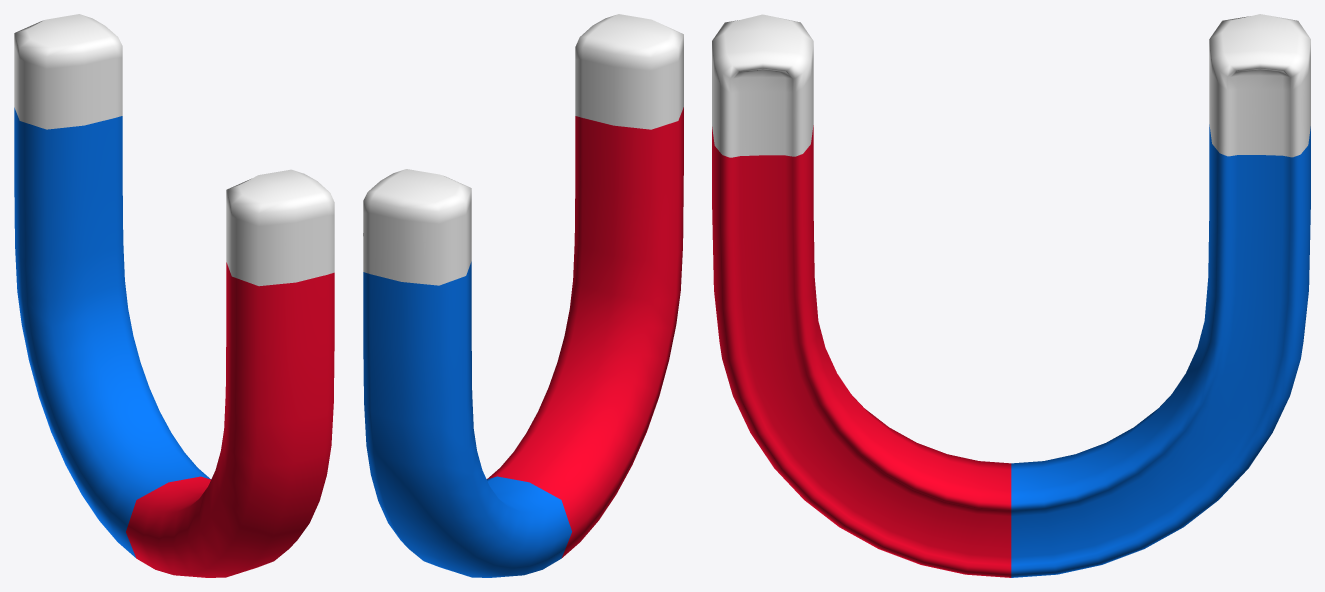
The model's file is magnet.fbx.
The picture shows the model from 3 angles, left to right: view 1: azimuth 30°, elevation 25°; view 2: azimuth 150°, elevation 25°; view 3: azimuth 270°, elevation 25°; orthographic projection. The views are drawn at different scales.
Parts seen in each view (by area): view 1: pCylinder1; view 2: pCylinder1; view 3: pCylinder1.
Part boxes in pixels (left/top/right/bottom): pCylinder1: left=14, top=14, right=334, bottom=577; pCylinder1: left=363, top=14, right=683, bottom=577; pCylinder1: left=712, top=14, right=1310, bottom=577.
Bounding box in the file's own units: 5.48 × 27.71 × 28.28.
1 material, 1 textured.
